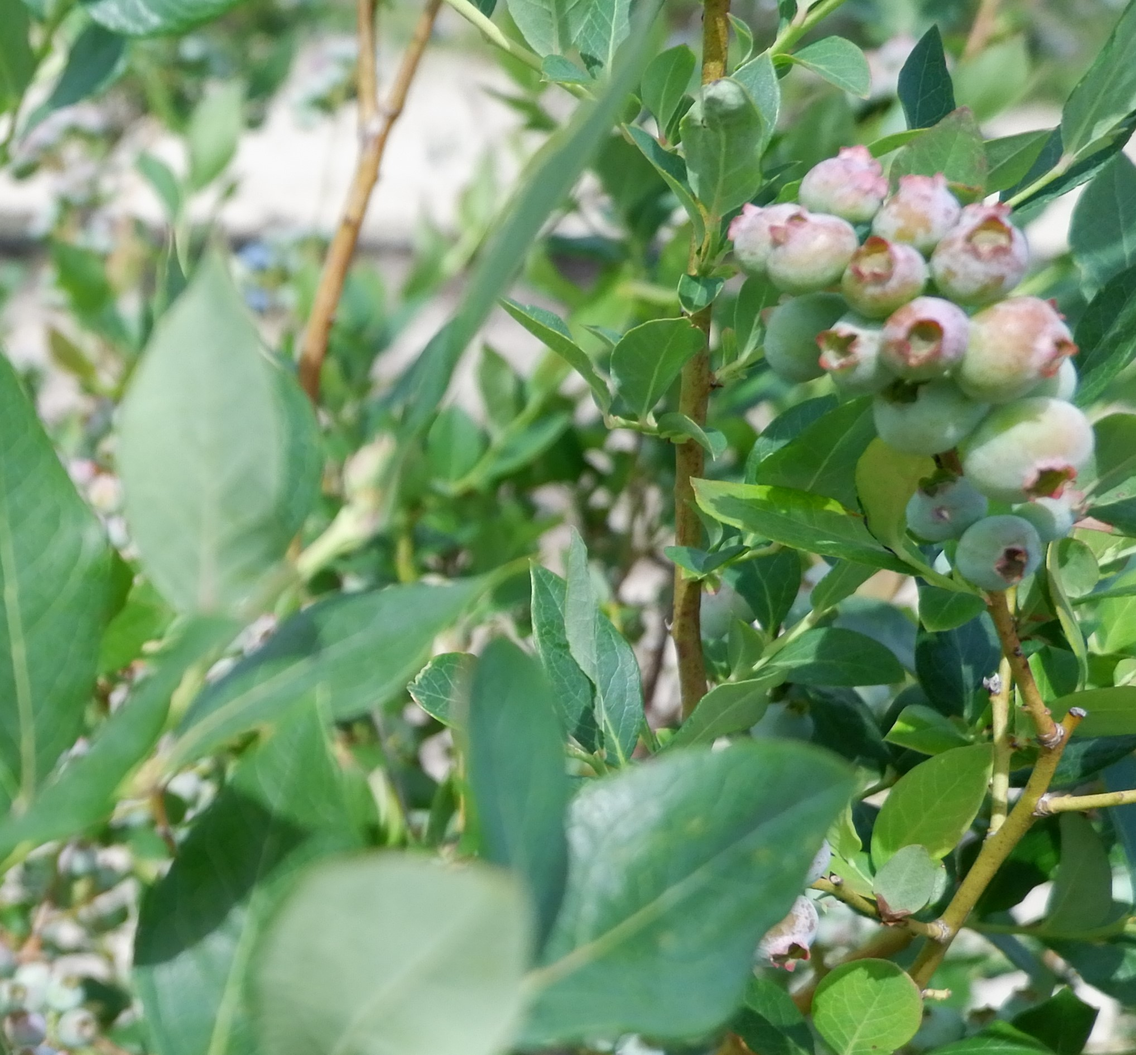Immature: (959, 400, 1090, 502), (957, 298, 1075, 402), (933, 203, 1028, 308), (877, 375, 986, 451), (881, 299, 966, 380), (874, 174, 957, 254), (770, 214, 853, 291), (801, 146, 887, 220), (844, 239, 926, 313), (956, 518, 1040, 589), (766, 295, 838, 376), (820, 313, 888, 396), (909, 473, 979, 540), (730, 205, 797, 272), (1015, 490, 1085, 535), (1032, 359, 1077, 400)
